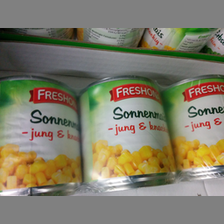corn: (77, 75, 174, 185), (1, 74, 81, 193), (165, 74, 224, 175)
